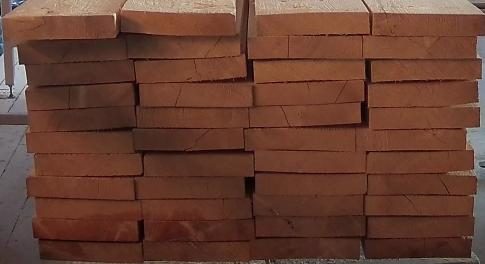Wood-Plank: (18, 34, 128, 63), (137, 54, 246, 83), (26, 82, 135, 110), (372, 10, 484, 37), (139, 81, 253, 107), (255, 8, 369, 34), (370, 103, 481, 129), (250, 102, 362, 127), (368, 82, 479, 107), (248, 35, 362, 59), (127, 34, 241, 58), (2, 14, 115, 38), (26, 60, 134, 85), (28, 107, 135, 132), (32, 216, 139, 241), (245, 127, 356, 151), (144, 152, 255, 176), (255, 82, 365, 106), (255, 59, 366, 82), (142, 198, 252, 221), (122, 12, 237, 34), (364, 36, 478, 58), (34, 153, 143, 176), (26, 130, 134, 153), (26, 176, 134, 199), (255, 150, 367, 172), (372, 59, 483, 81), (357, 129, 467, 151), (368, 151, 475, 173), (137, 107, 249, 128), (256, 175, 367, 196), (135, 178, 245, 199), (256, 216, 366, 237), (251, 238, 361, 259), (145, 221, 254, 242), (255, 195, 364, 216), (366, 238, 473, 259), (39, 241, 141, 263), (35, 199, 141, 220), (133, 130, 244, 150), (366, 196, 474, 216), (368, 218, 475, 238), (369, 176, 478, 195), (144, 242, 249, 261)
